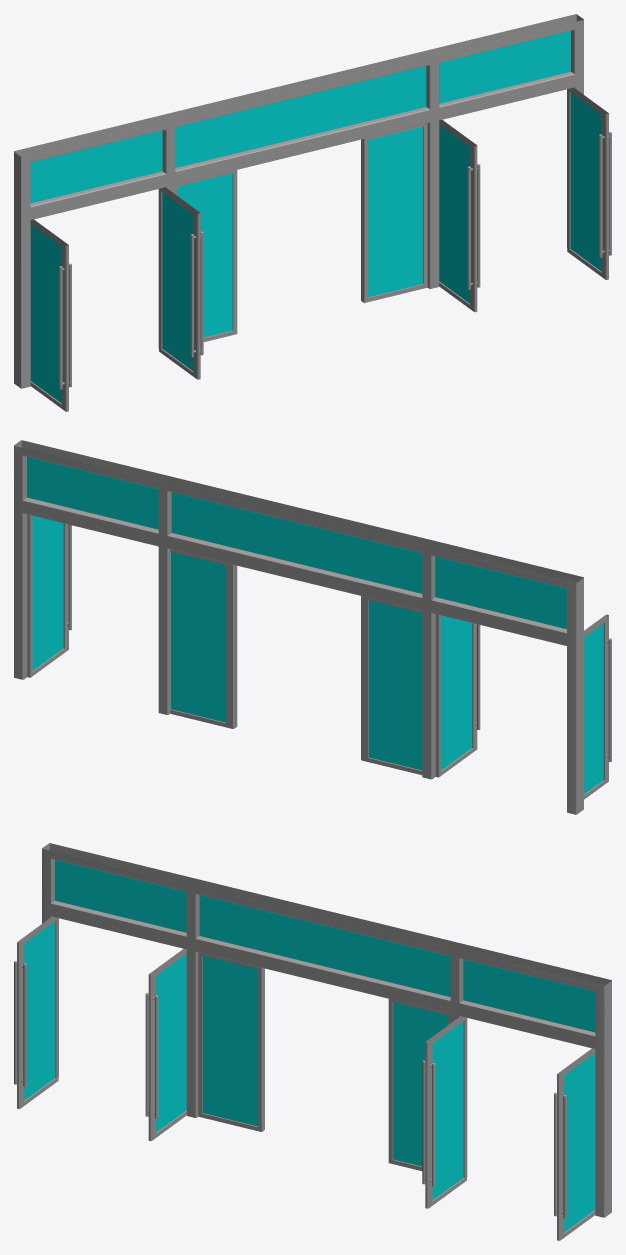
Rendered from Doors_Static.fbx.
The picture shows the model from 3 angles, top to bottom: view 1: azimuth 30°, elevation 25°; view 2: azimuth 150°, elevation 25°; view 3: azimuth 330°, elevation 25°; orthographic projection.
Visible parts, largest first — view 1: Doors_Static; view 2: Doors_Static; view 3: Doors_Static.
Boxes of the visible parts, bbox=[...] form: Doors_Static: bbox=[14, 14, 611, 411]; Doors_Static: bbox=[14, 440, 611, 814]; Doors_Static: bbox=[14, 843, 611, 1240].
Size of the model in its own units: 721 by 284 by 94.96.
